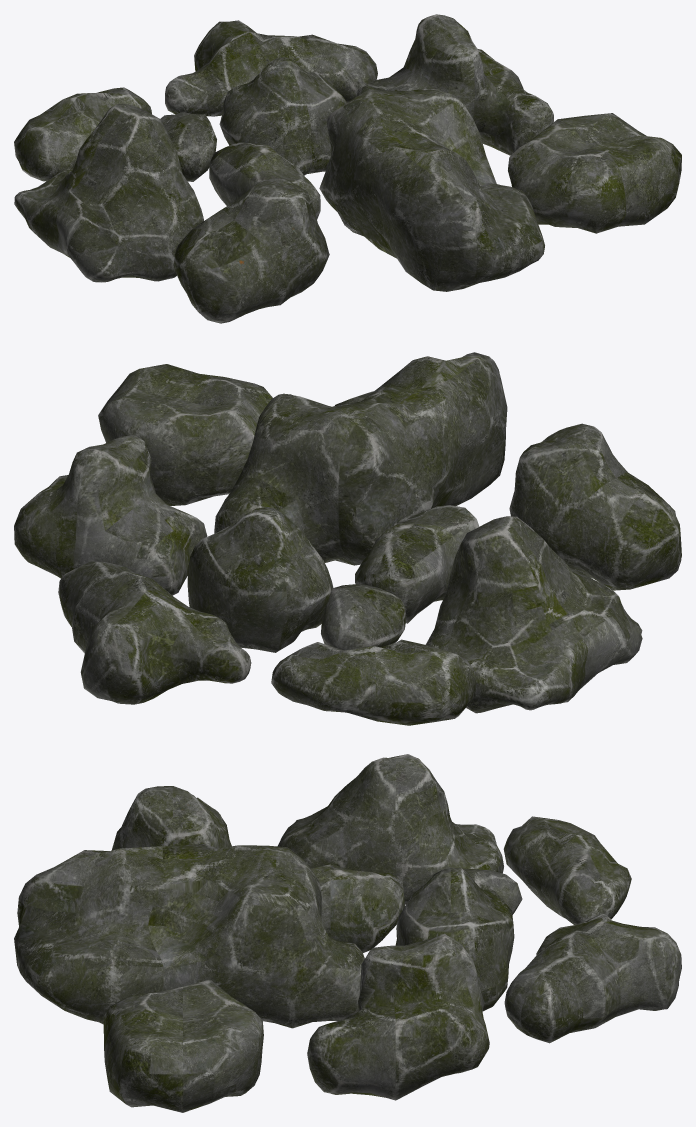
Rendered from StonePack001.fbx.
3 views of the same model, one above another, from view 1: azimuth 30°, elevation 25°; view 2: azimuth 150°, elevation 25°; view 3: azimuth 270°, elevation 25° (orthographic). The views are drawn at different scales.
Parts seen in each view (by area): view 1: StonePack001; view 2: StonePack001; view 3: StonePack001.
Boxes of the visible parts, x1,y1,x2,y2 form: StonePack001: (14,14,681,323); StonePack001: (14,352,681,725); StonePack001: (14,754,681,1112).
Size of the model in its own units: 1682 by 443 by 1676.
